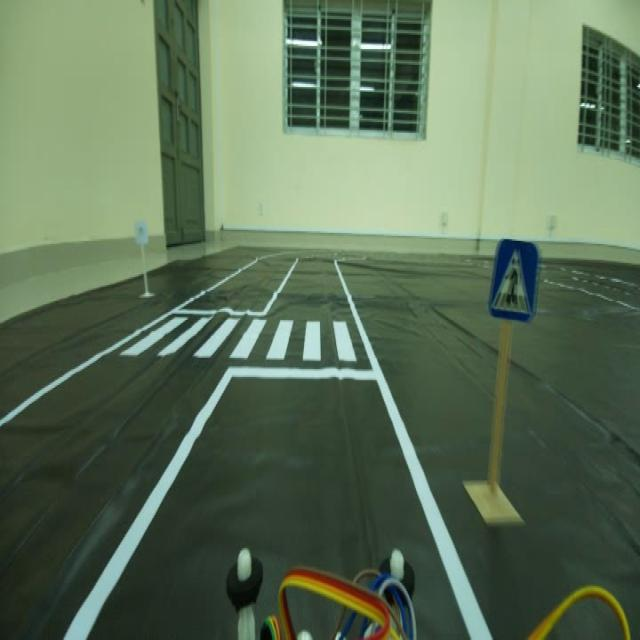crosswalk: (487, 224, 541, 329)
